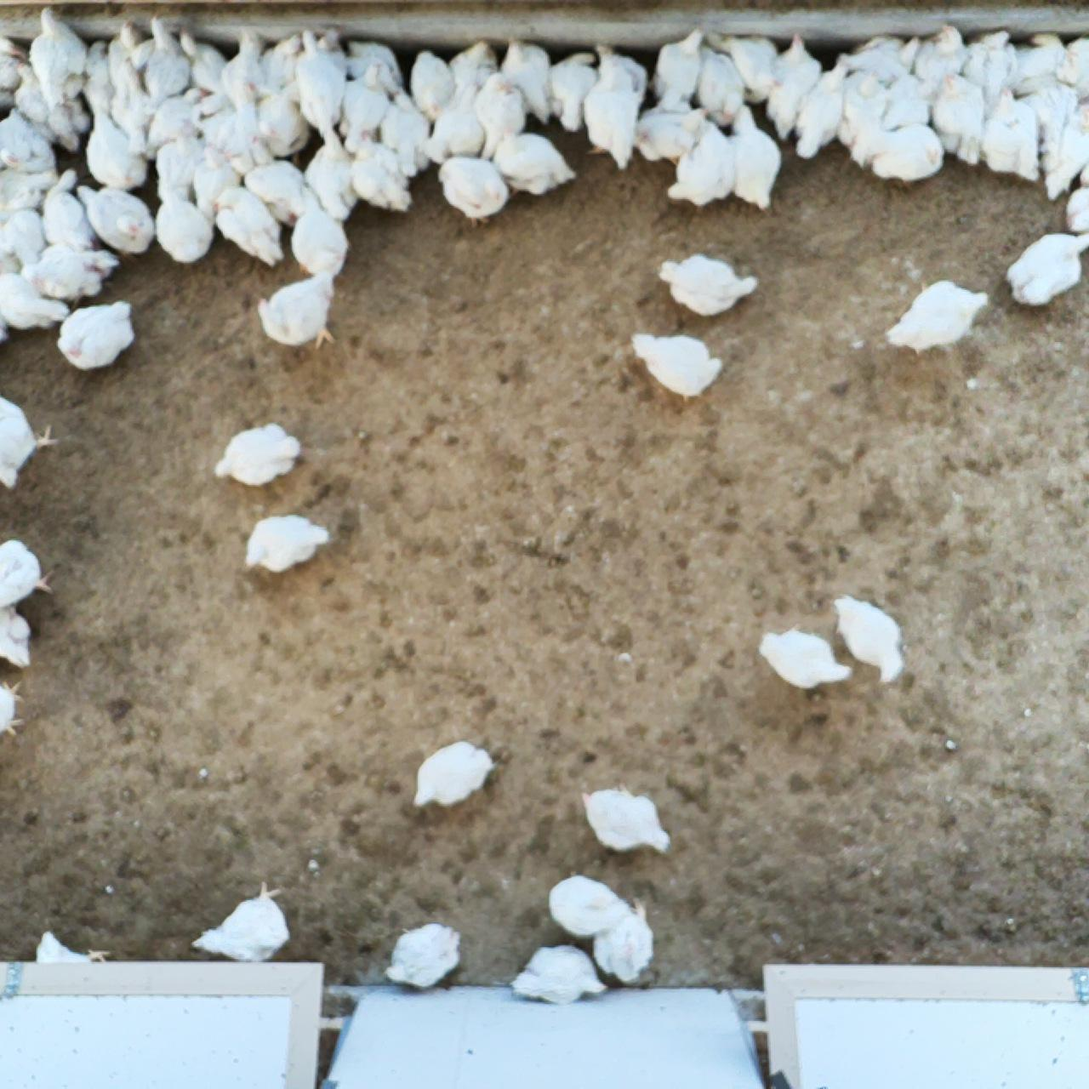chicken: (185, 879, 297, 966), (882, 275, 991, 357), (8, 58, 89, 151), (833, 588, 910, 685), (629, 326, 724, 402), (661, 116, 737, 210), (1005, 225, 1089, 310), (788, 53, 851, 166), (27, 6, 92, 115), (720, 101, 784, 211), (578, 783, 671, 858), (657, 253, 762, 318), (255, 263, 341, 342), (212, 185, 289, 273), (509, 943, 613, 1008), (757, 626, 856, 694), (291, 25, 346, 147), (766, 28, 823, 144), (580, 64, 641, 171), (209, 422, 304, 490), (284, 180, 349, 279), (409, 740, 497, 812), (241, 138, 309, 231), (981, 82, 1043, 183), (21, 241, 122, 303), (0, 394, 63, 493), (54, 296, 136, 372), (72, 181, 156, 255), (544, 871, 634, 940), (960, 27, 1026, 121), (911, 19, 976, 114), (420, 76, 486, 167), (487, 134, 582, 197), (1014, 78, 1079, 170), (383, 921, 467, 992), (239, 512, 334, 573), (837, 29, 926, 94), (631, 87, 708, 162), (592, 895, 656, 985), (133, 14, 195, 106), (927, 71, 984, 171), (278, 30, 352, 107), (303, 126, 361, 223), (348, 129, 412, 216), (857, 124, 946, 186), (691, 39, 750, 132), (716, 34, 788, 110), (41, 167, 104, 253), (336, 61, 393, 156), (377, 90, 435, 182), (152, 185, 217, 266), (499, 36, 556, 127), (472, 69, 527, 163), (831, 66, 891, 152), (175, 28, 240, 105), (439, 158, 509, 229), (81, 111, 147, 186), (651, 23, 707, 110), (144, 81, 204, 161), (152, 123, 209, 207), (0, 271, 77, 333), (251, 80, 310, 159), (547, 43, 596, 138), (1043, 99, 1089, 199), (192, 93, 261, 159), (586, 39, 648, 112), (1005, 33, 1069, 103), (0, 105, 63, 175), (99, 19, 155, 97), (217, 27, 268, 111), (449, 34, 501, 115), (340, 40, 409, 100), (0, 162, 62, 228), (105, 59, 152, 143), (251, 28, 304, 101), (880, 71, 934, 140), (0, 536, 54, 604), (0, 203, 48, 277), (80, 38, 121, 124), (410, 50, 454, 129), (31, 930, 112, 972), (195, 144, 239, 217), (0, 600, 41, 670), (1052, 38, 1089, 103), (0, 34, 29, 116), (1063, 182, 1089, 241)
